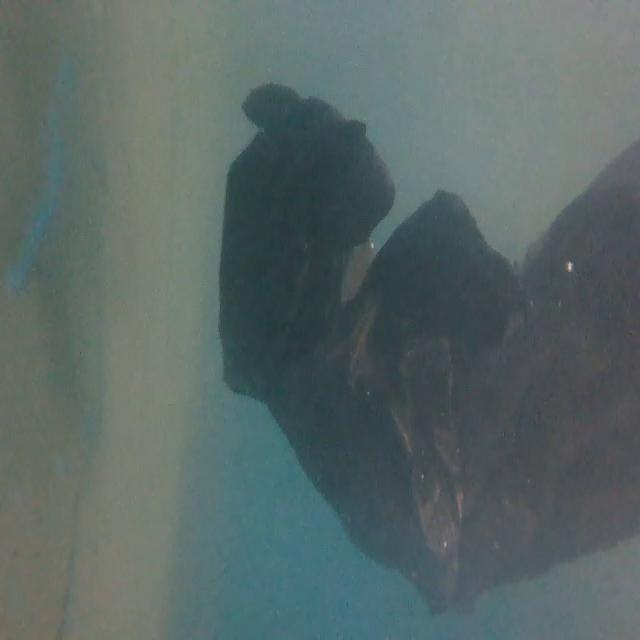plastic bags: (215, 81, 640, 616)
